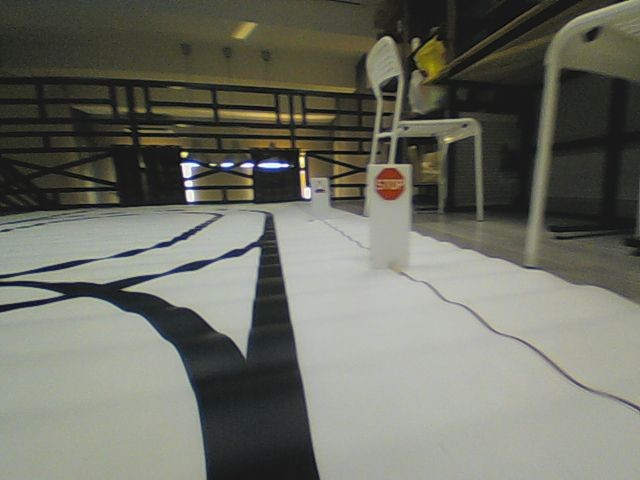Stop: (372, 166, 406, 202)
